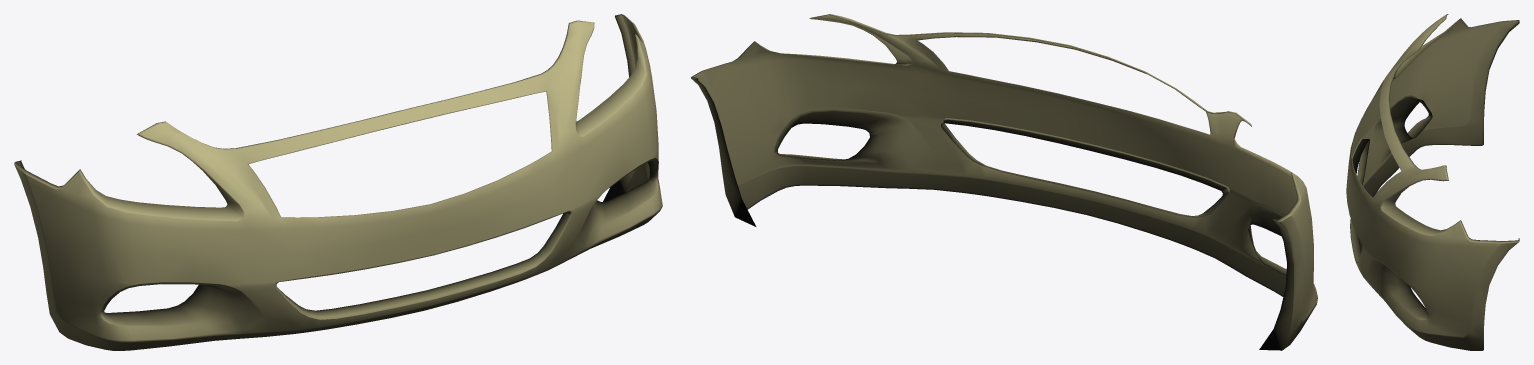
Rendered from G37_FB_01_Duco.fbx.
3 views of the same model, side by side, from view 1: azimuth 30°, elevation 25°; view 2: azimuth 150°, elevation 25°; view 3: azimuth 270°, elevation 25° (orthographic). The views are drawn at different scales.
Visible parts, largest first — view 1: G37_FB_01_Duco; view 2: G37_FB_01_Duco; view 3: G37_FB_01_Duco.
Part boxes in pixels (x1=…): G37_FB_01_Duco: x1=14, y1=14, x2=662, y2=350; G37_FB_01_Duco: x1=691, y1=14, x2=1317, y2=350; G37_FB_01_Duco: x1=1346, y1=14, x2=1519, y2=350.
Size of the model in its own units: 182 by 60.81 by 60.03.
